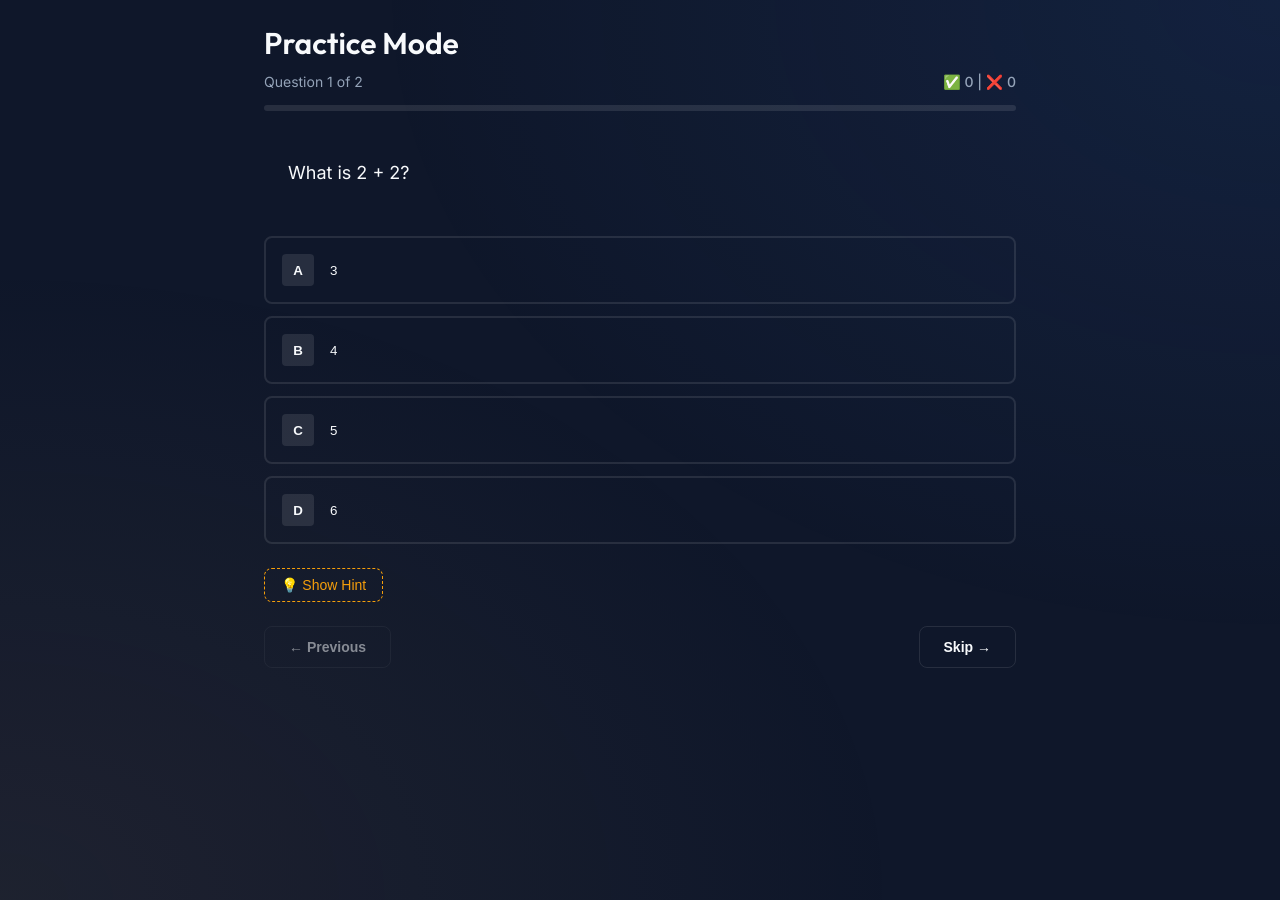
PracticeMode › shows check answer button after selecting
The width and height of the screenshot is (1280, 900).
Click the button "B 4": (298, 350) [264, 316, 1016, 384]
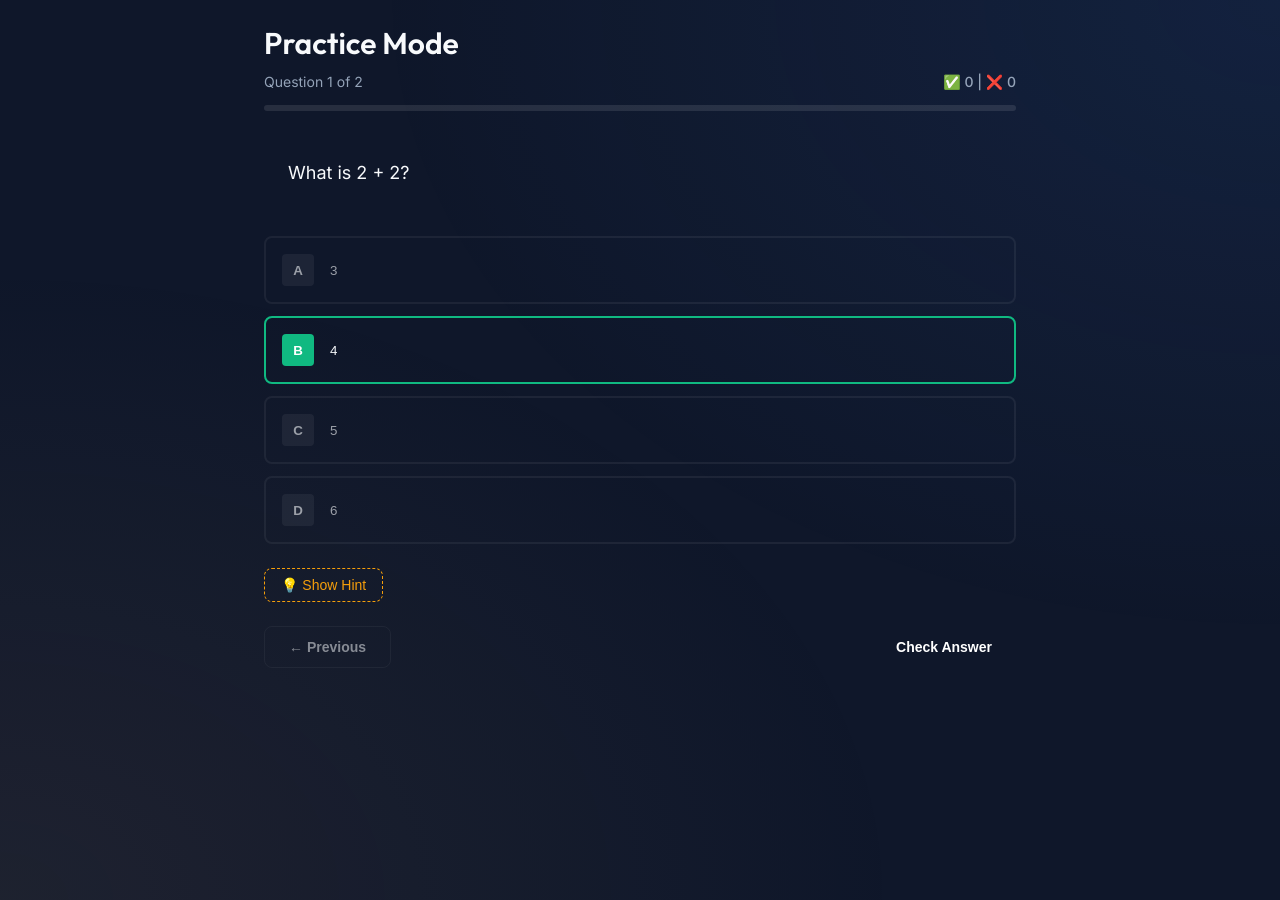
Expected: the button "Check Answer" is shown, [872, 626, 1016, 668]
